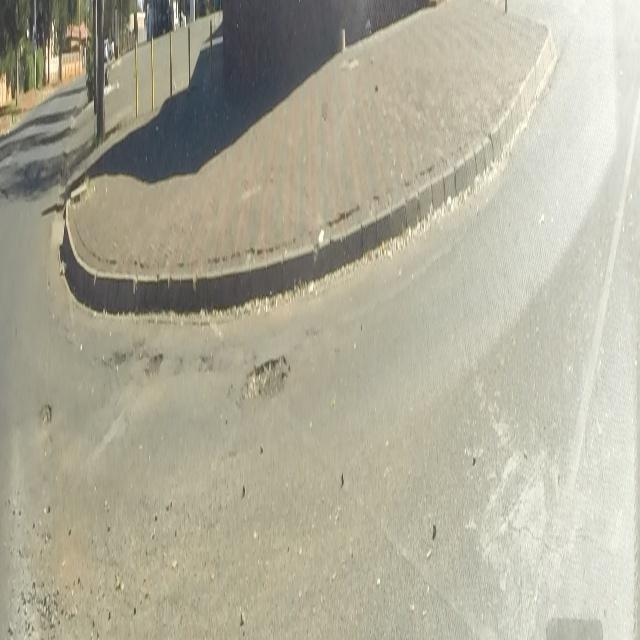pothole: (99, 345, 165, 380), (242, 354, 288, 404), (36, 396, 54, 430)
